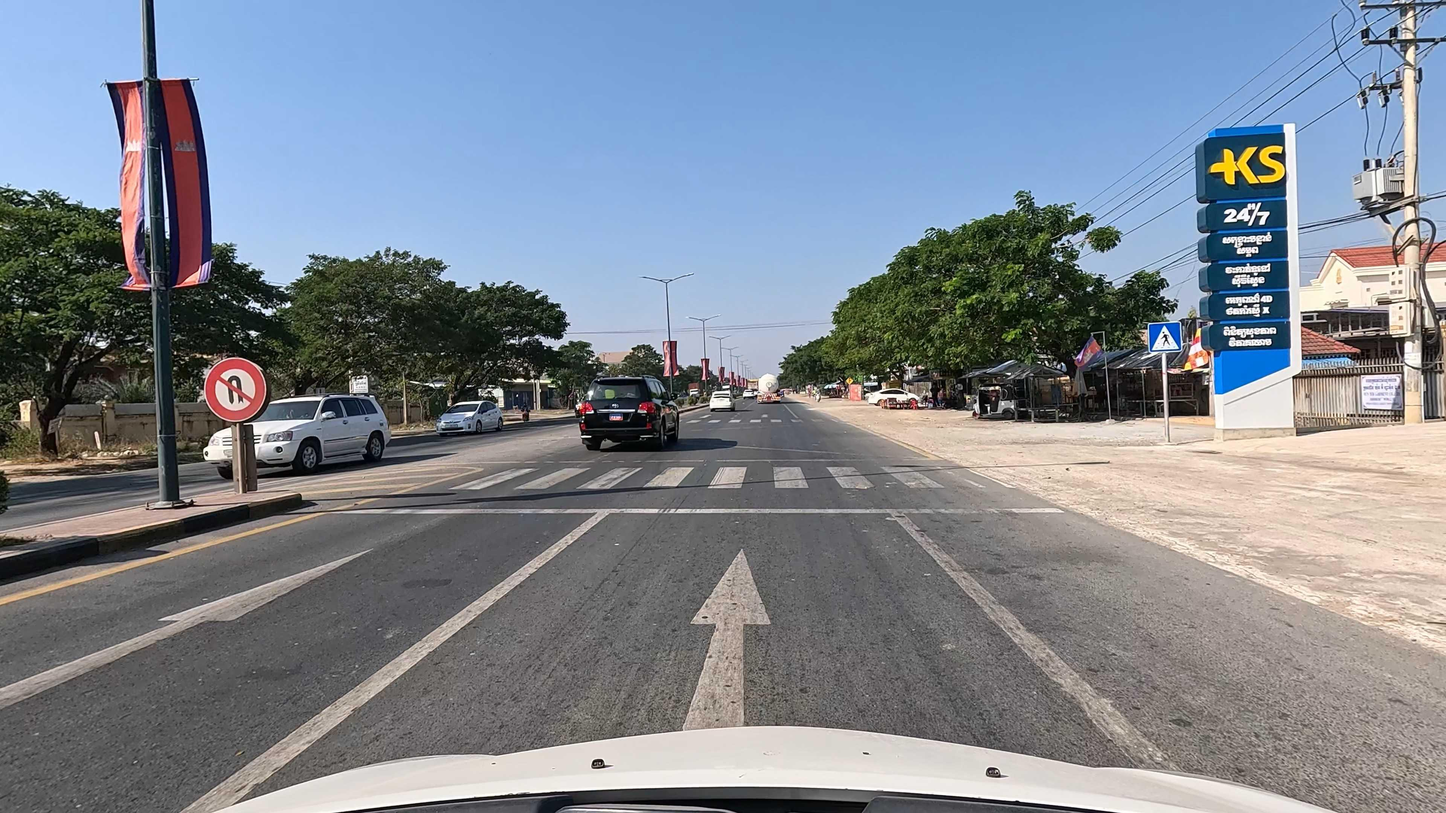no_u_turn: (201, 356, 267, 423)
pedestrian_crossing: (1147, 321, 1183, 354)
